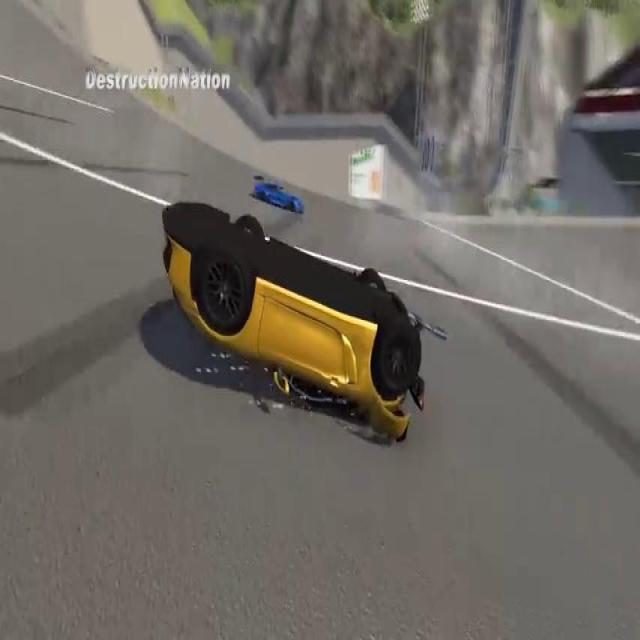severe: (160, 192, 424, 451)
